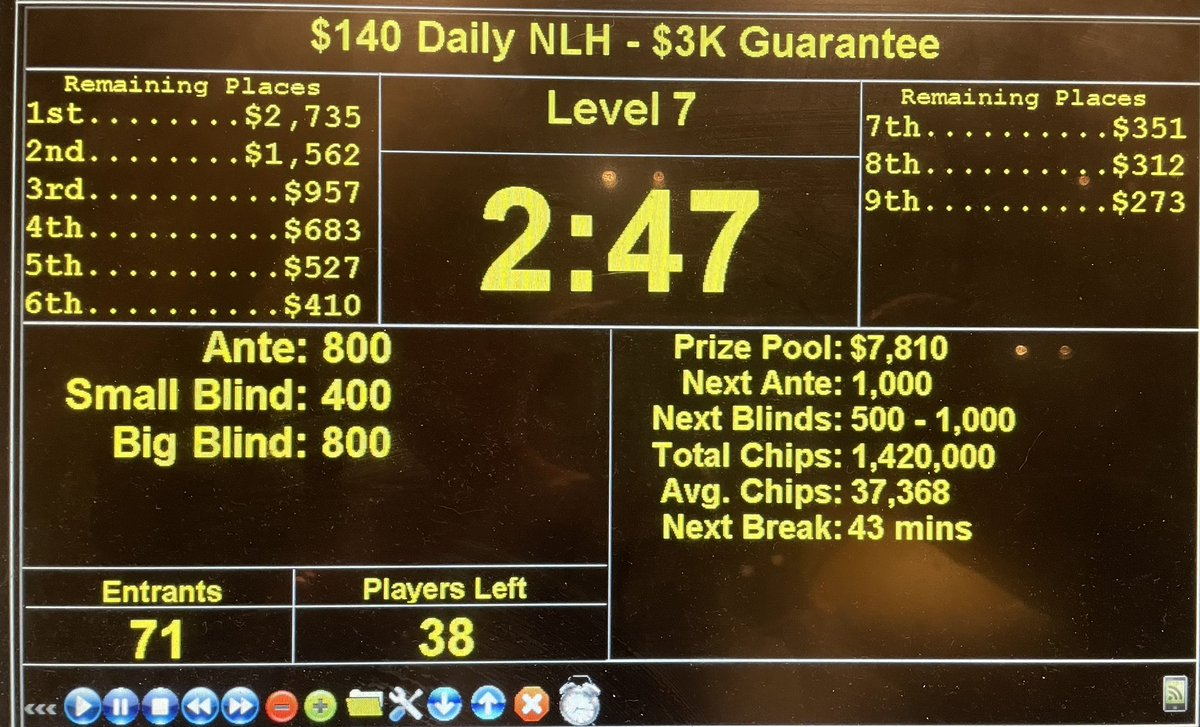PlayersLeft: (284, 562, 615, 668)
Remaining: (11, 61, 384, 328), (854, 78, 1200, 332)
TournamentClock: (1, 11, 1200, 662)
